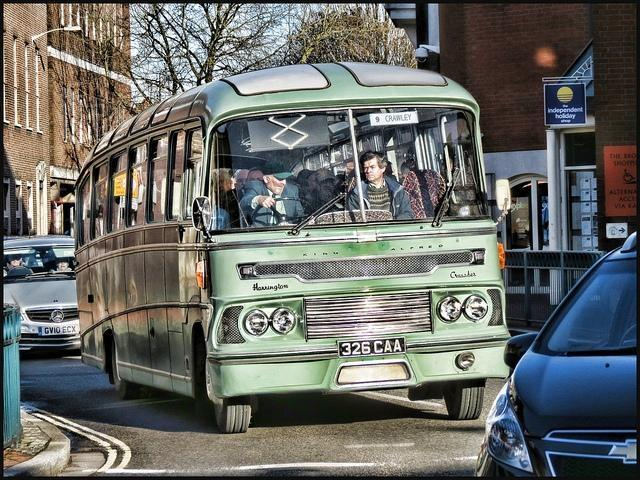bus: (74, 64, 514, 438)
car: (474, 229, 640, 480), (2, 232, 84, 358)
